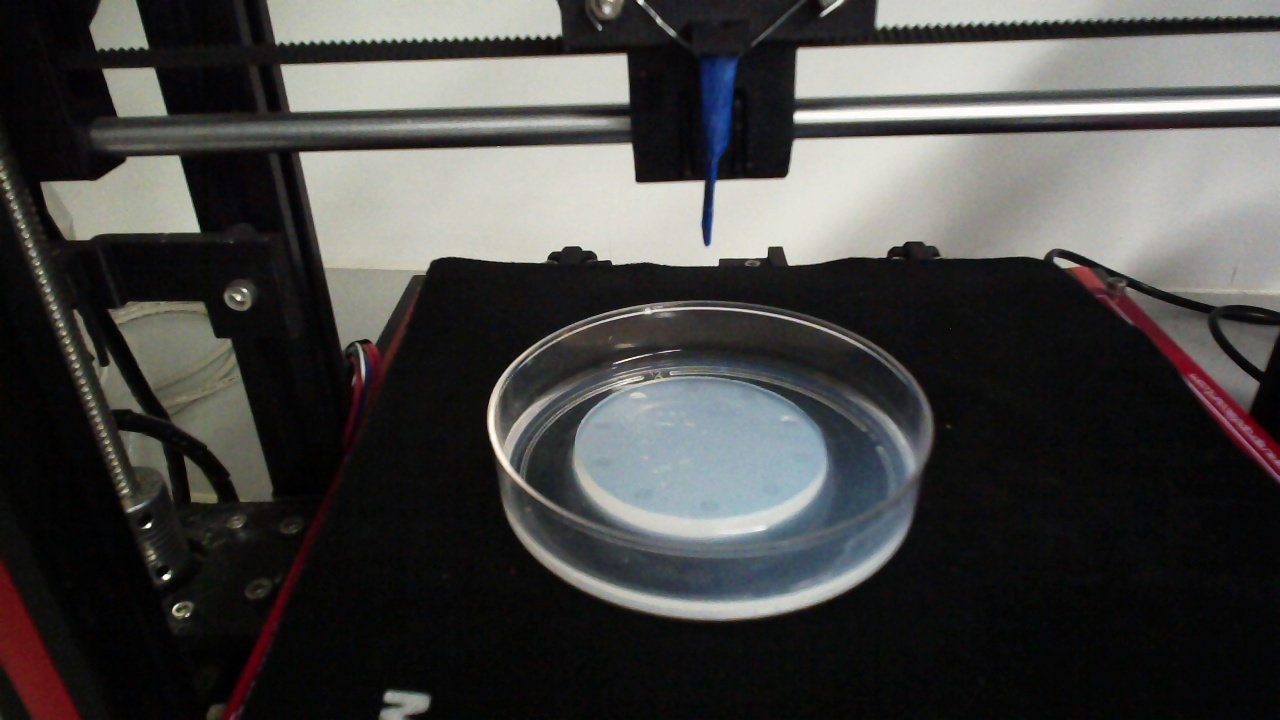groove: (789, 449, 813, 464), (760, 481, 782, 497), (633, 487, 655, 501), (698, 500, 720, 513), (593, 456, 613, 470), (780, 415, 801, 428), (737, 390, 756, 404), (592, 419, 613, 431), (627, 391, 646, 404)
needle: (701, 57, 733, 243)
